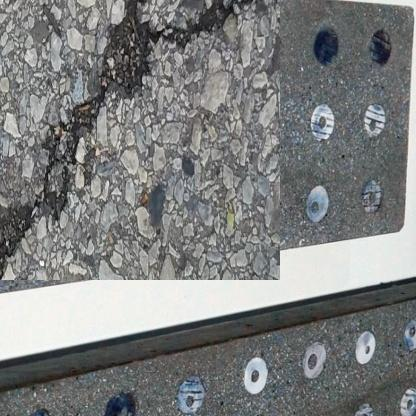Cracks: (0, 0, 259, 259)
